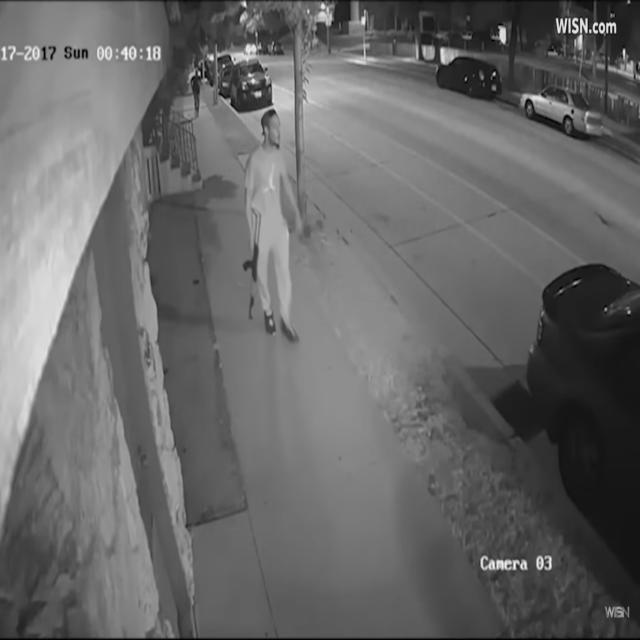FRifle: (243, 202, 264, 324)
